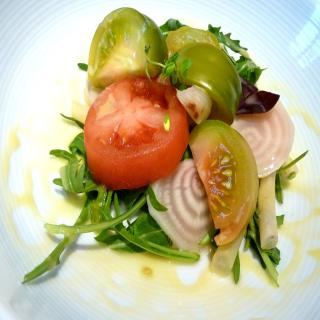tomato: (83, 76, 189, 192)
